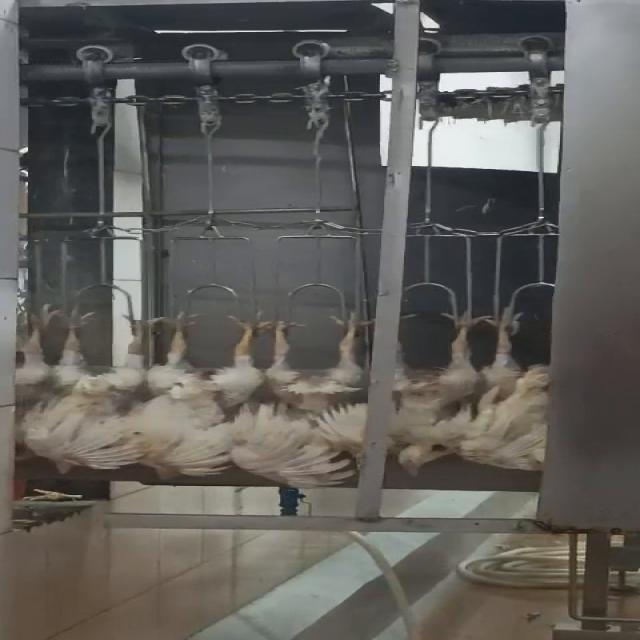chicken: (140, 315, 278, 482), (36, 313, 168, 474), (386, 309, 504, 478), (267, 307, 373, 489), (466, 298, 549, 474), (0, 310, 53, 450)
